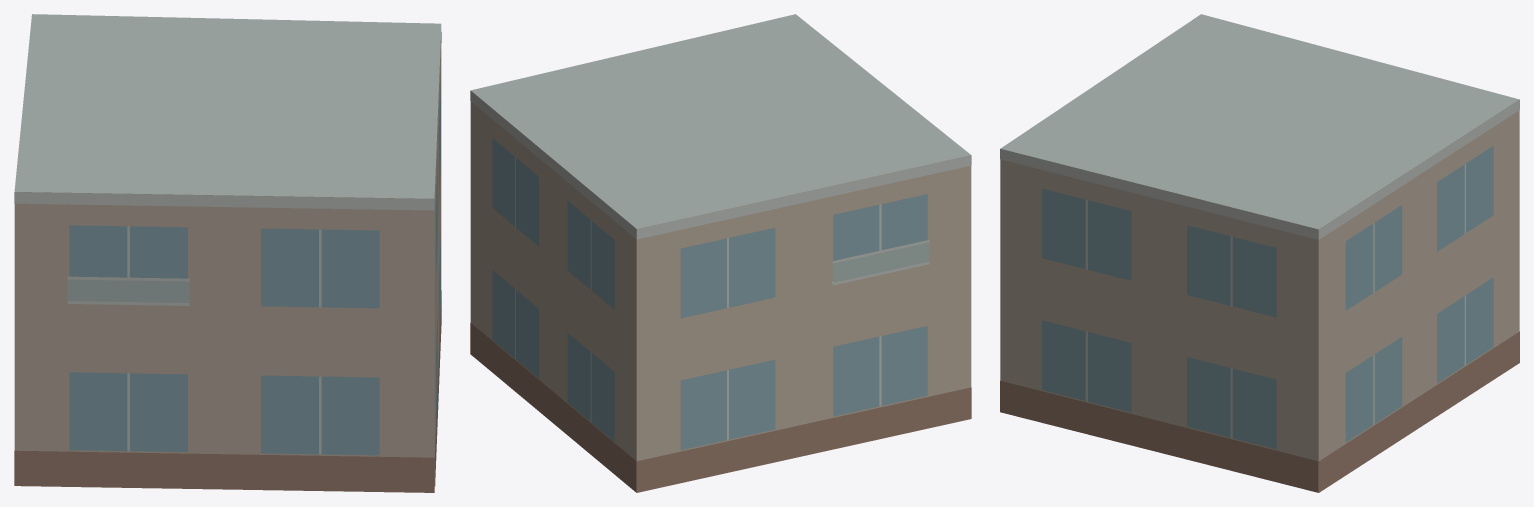
The model's file is survey-upis-32795391.glb.
The picture shows the model from 3 angles, left to right: view 1: azimuth 30°, elevation 25°; view 2: azimuth 150°, elevation 25°; view 3: azimuth 270°, elevation 25°; orthographic projection. The views are drawn at different scales.
Visible parts, largest first — view 1: survey-upis-32795391.tmp; view 2: survey-upis-32795391.tmp; view 3: survey-upis-32795391.tmp.
Boxes of the visible parts, x1=… form: survey-upis-32795391.tmp: x1=14, y1=14, x2=441, y2=492; survey-upis-32795391.tmp: x1=470, y1=14, x2=971, y2=492; survey-upis-32795391.tmp: x1=1000, y1=14, x2=1519, y2=492.
Size of the model in its own units: 10.7 by 6.1 by 10.91.
